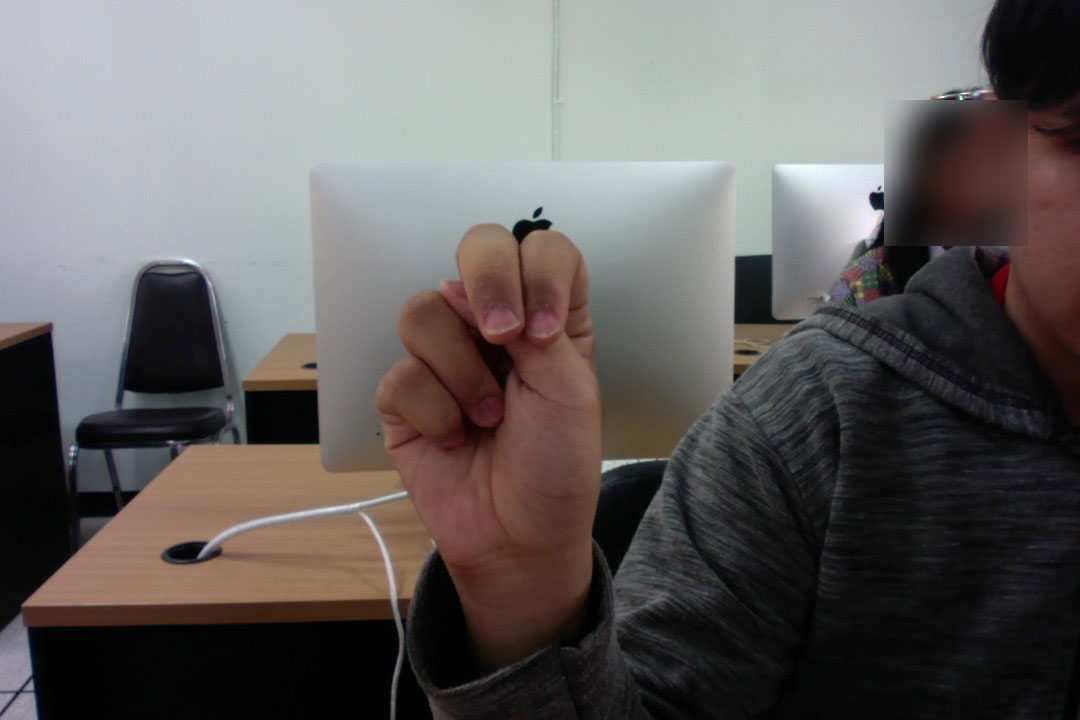nor: (362, 199, 612, 604)
